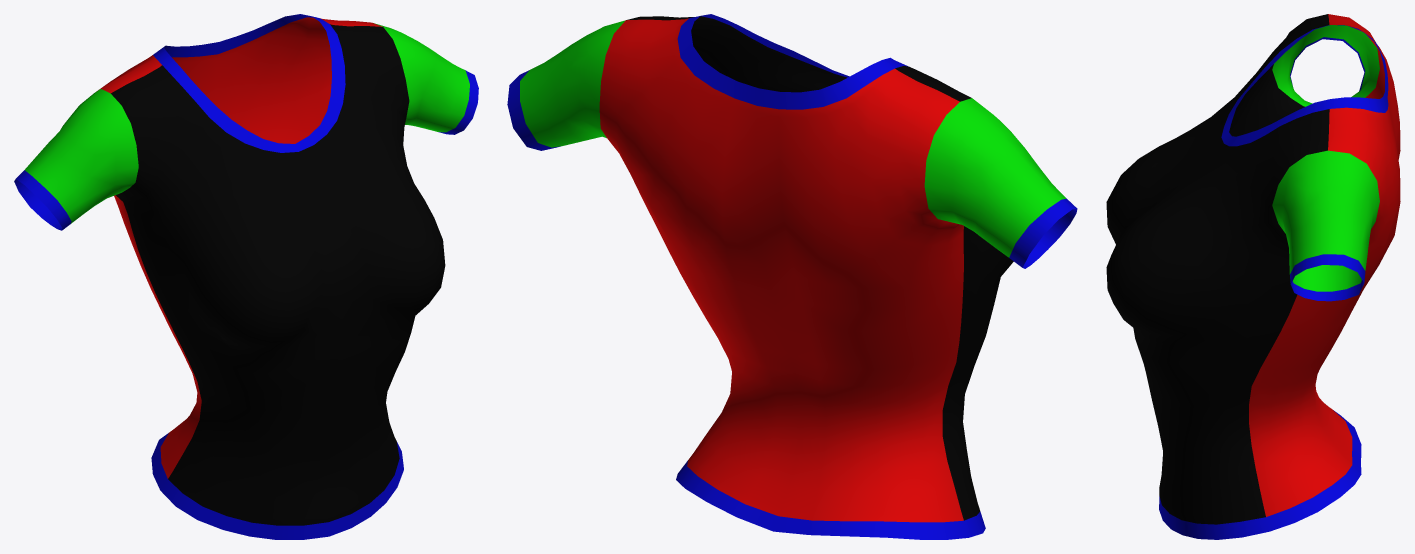
The model's file is singlet.fbx.
The picture shows the model from 3 angles, left to right: view 1: azimuth 30°, elevation 25°; view 2: azimuth 150°, elevation 25°; view 3: azimuth 270°, elevation 25°; orthographic projection. The views are drawn at different scales.
Visible parts, largest first — view 1: test; view 2: test; view 3: test.
Boxes of the visible parts, x1,y1,x2,y2 form: test: (14,14,478,539); test: (507,14,1077,539); test: (1106,14,1400,539).
Size of the model in its own units: 41.13 by 38.12 by 22.64.
